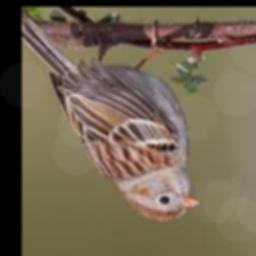Sparrow: (21, 11, 200, 222)
